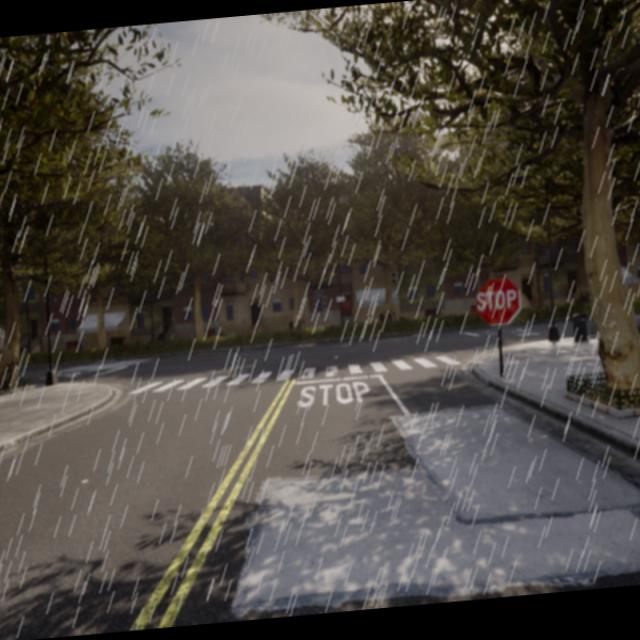stop sign: (473, 271, 522, 328)
